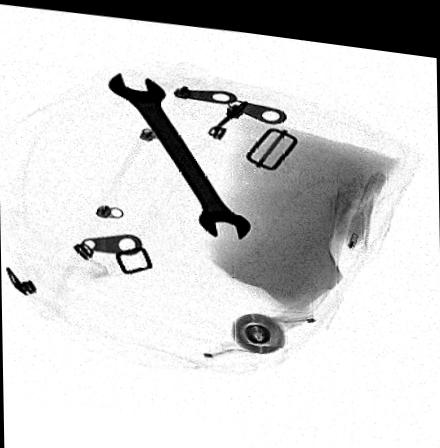Wrench: (105, 66, 255, 238)
